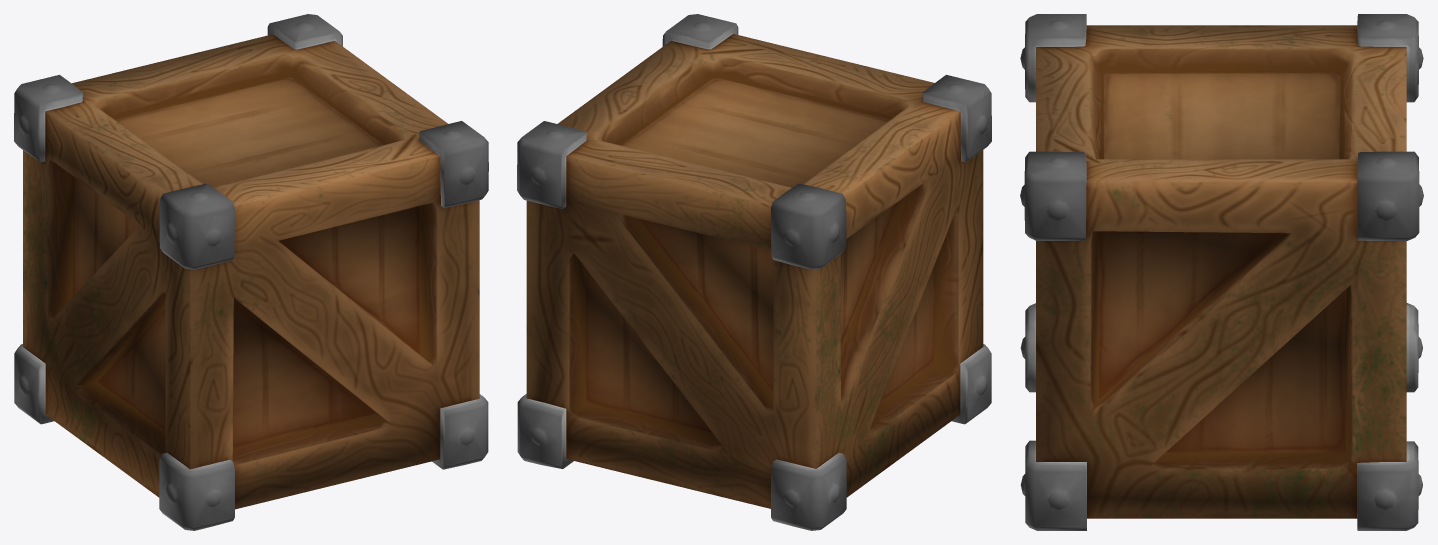
The model's file is stylized_crate_asset.glb.
The picture shows the model from 3 angles, left to right: view 1: azimuth 30°, elevation 25°; view 2: azimuth 150°, elevation 25°; view 3: azimuth 270°, elevation 25°; orthographic projection. The views are drawn at different scales.
Visible parts, largest first — view 1: Kutija_low, Metal_low; view 2: Kutija_low, Metal_low; view 3: Kutija_low, Metal_low.
Part boxes in pixels (<box>): Kutija_low: <box>23,34,479,509</box>; Metal_low: <box>14,14,488,530</box>; Kutija_low: <box>526,34,983,508</box>; Metal_low: <box>517,14,991,530</box>; Kutija_low: <box>1036,25,1406,518</box>; Metal_low: <box>1020,14,1423,530</box>.
Size of the model in its own units: 2.15 by 2.14 by 2.16.
Materials: 2 (2 with a texture image).
